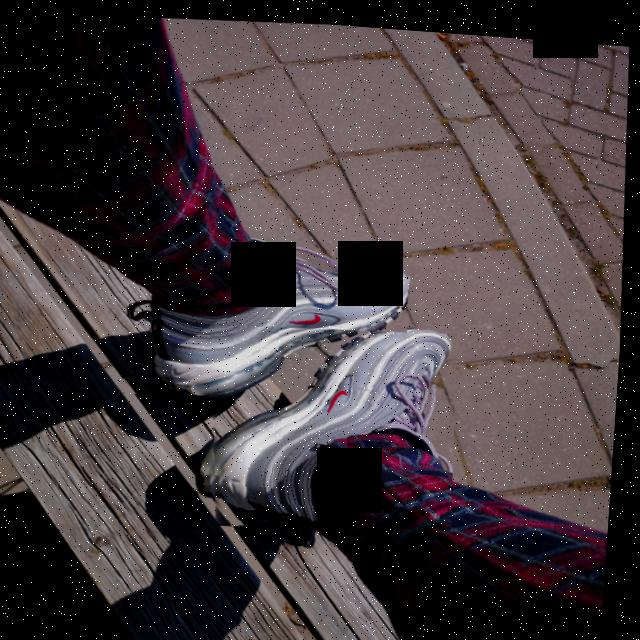shoe: (204, 312, 468, 536), (121, 238, 417, 407)
